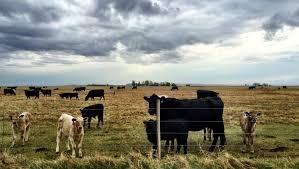cow: (144, 93, 227, 152), (142, 119, 190, 155), (56, 115, 85, 157), (8, 110, 36, 150), (239, 110, 262, 152), (80, 103, 104, 129), (196, 88, 220, 100), (84, 89, 106, 100), (25, 89, 42, 98), (61, 91, 78, 99), (39, 88, 54, 96), (3, 89, 17, 96), (72, 86, 86, 92), (246, 84, 257, 91), (8, 85, 19, 91), (170, 86, 181, 92), (33, 85, 43, 91), (28, 84, 34, 91), (131, 86, 139, 90), (281, 85, 289, 89), (108, 86, 114, 90), (118, 85, 122, 90), (122, 85, 126, 89)
